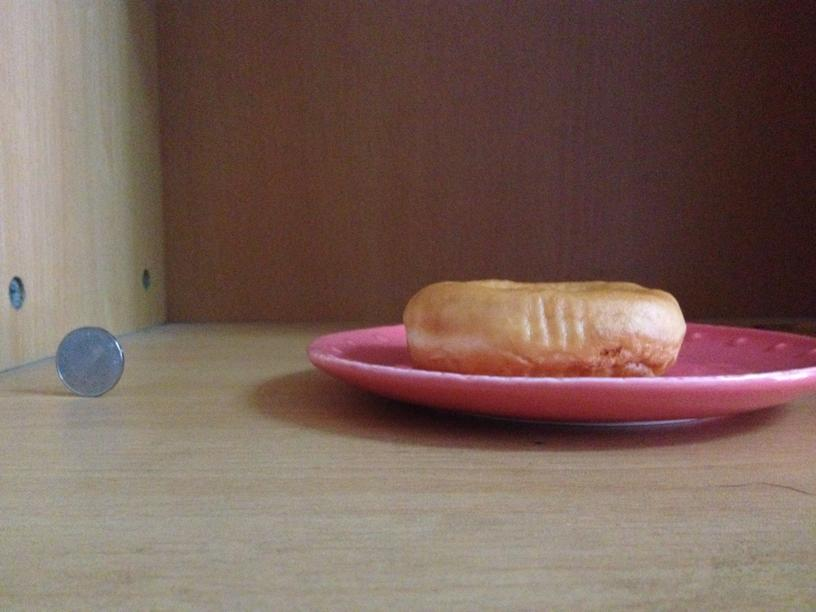coin: (55, 327, 124, 395)
doughnut: (402, 280, 685, 377)
